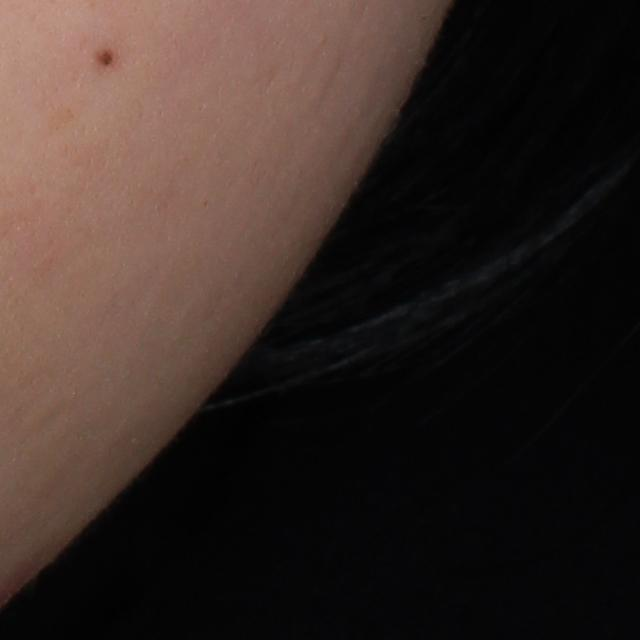nevus: (96, 48, 116, 66)
